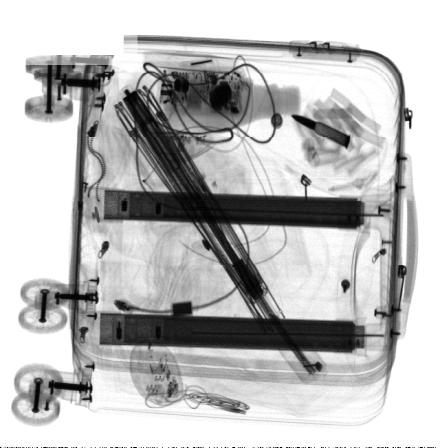Bullet: (288, 114, 351, 151)
